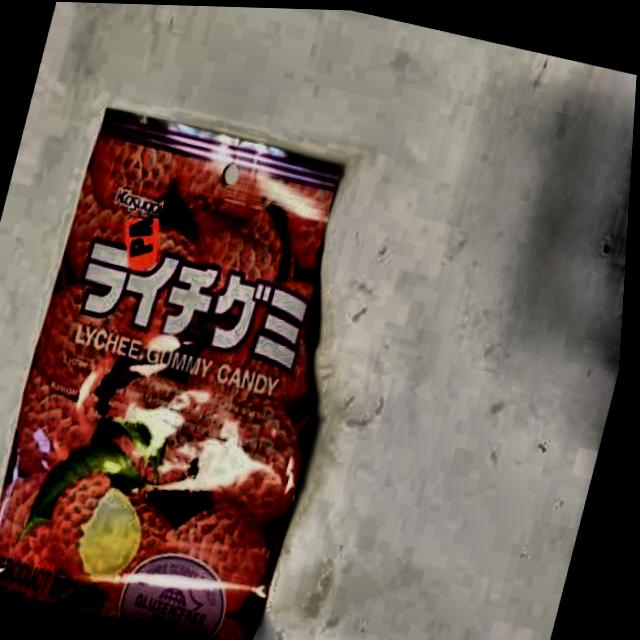Plastic: (0, 56, 411, 640)
